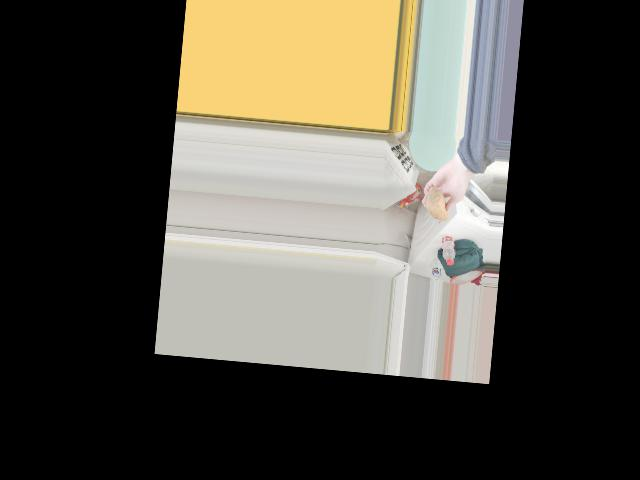sweet_potato: (424, 191, 449, 221)
